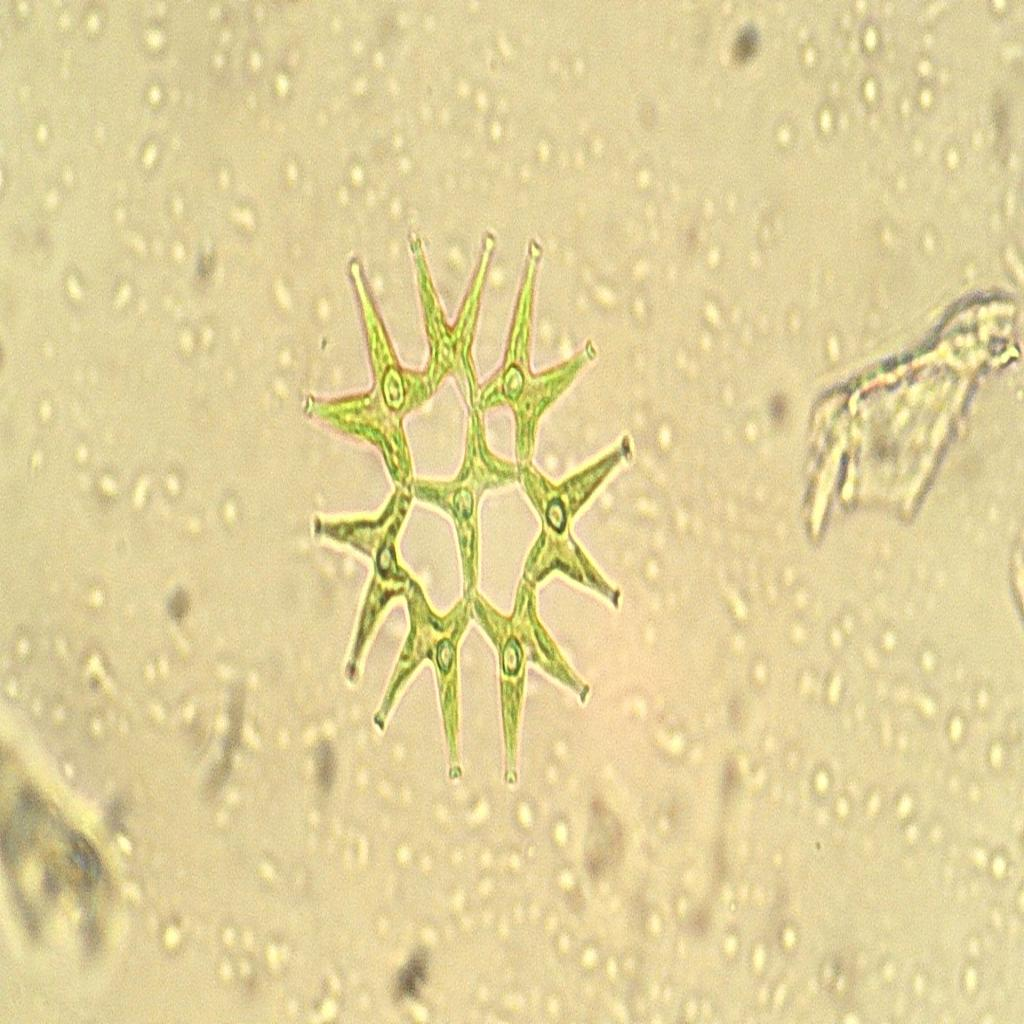Pediastrum_75T: (291, 204, 641, 798)
